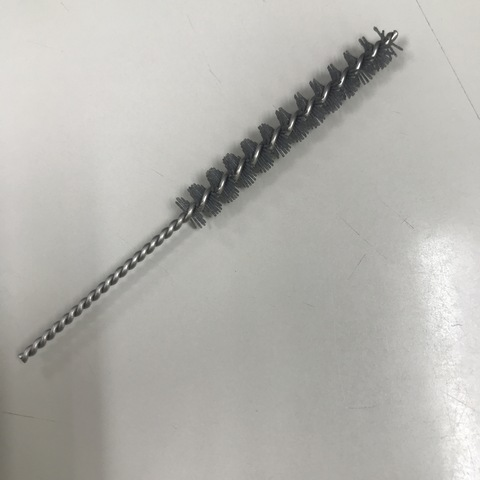Twist Brush-A: (12, 26, 407, 362)
